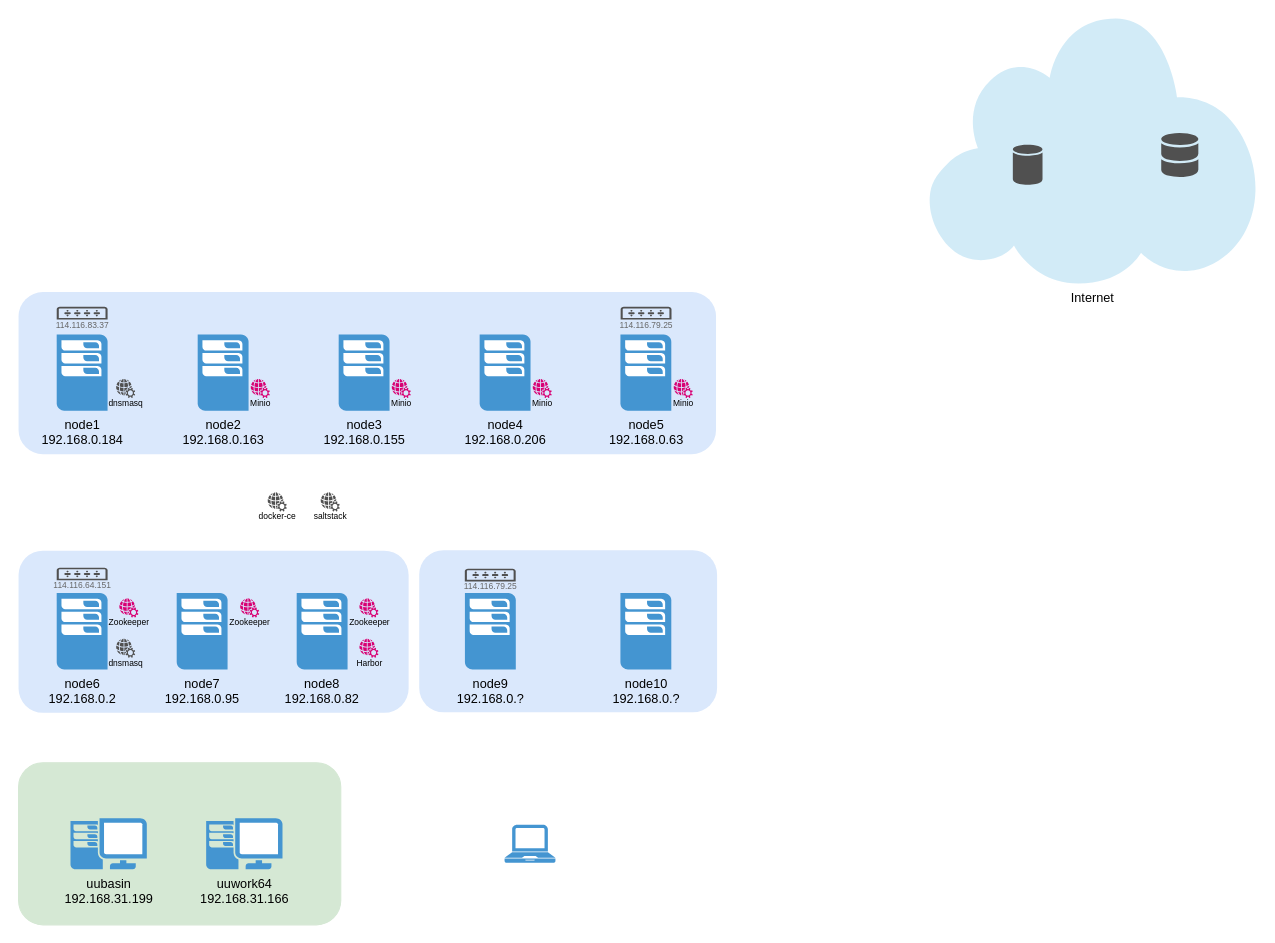
This 1275x943 diagram has some shape labels left out. Here are the shapes that lost their labels. From the top down, the box of each, then its label:
(1012, 144, 1042, 184): Github
(1161, 132, 1198, 177): 百度网盘
(18, 292, 716, 454): Work Site (CentOS)
(18, 550, 408, 712): Manage Site (Ubuntu)
(419, 550, 717, 712): Standby Site
(17, 762, 341, 925): Office
(504, 824, 555, 862): mbp665
